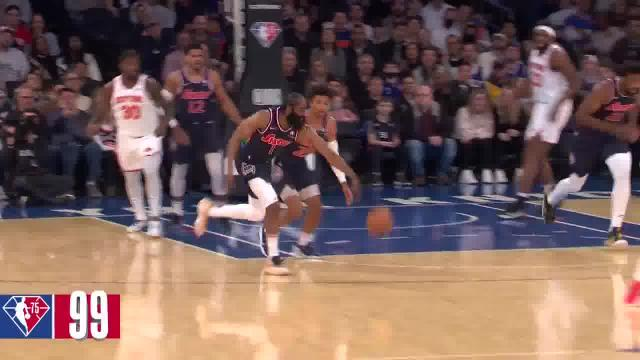ball-handler: (181, 89, 393, 281)
player: (147, 43, 250, 234), (540, 58, 640, 247), (259, 84, 353, 260), (91, 52, 176, 245), (506, 13, 581, 222)
